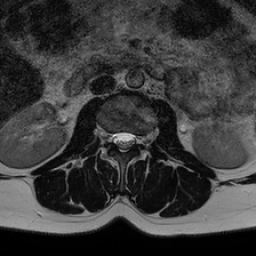CCS_normal: (120, 123, 126, 160)
LFS_normal: (134, 129, 144, 150)
LLS_normal: (126, 124, 134, 150)
RFS_normal: (104, 123, 112, 149)
RLS_normal: (112, 124, 120, 150)
